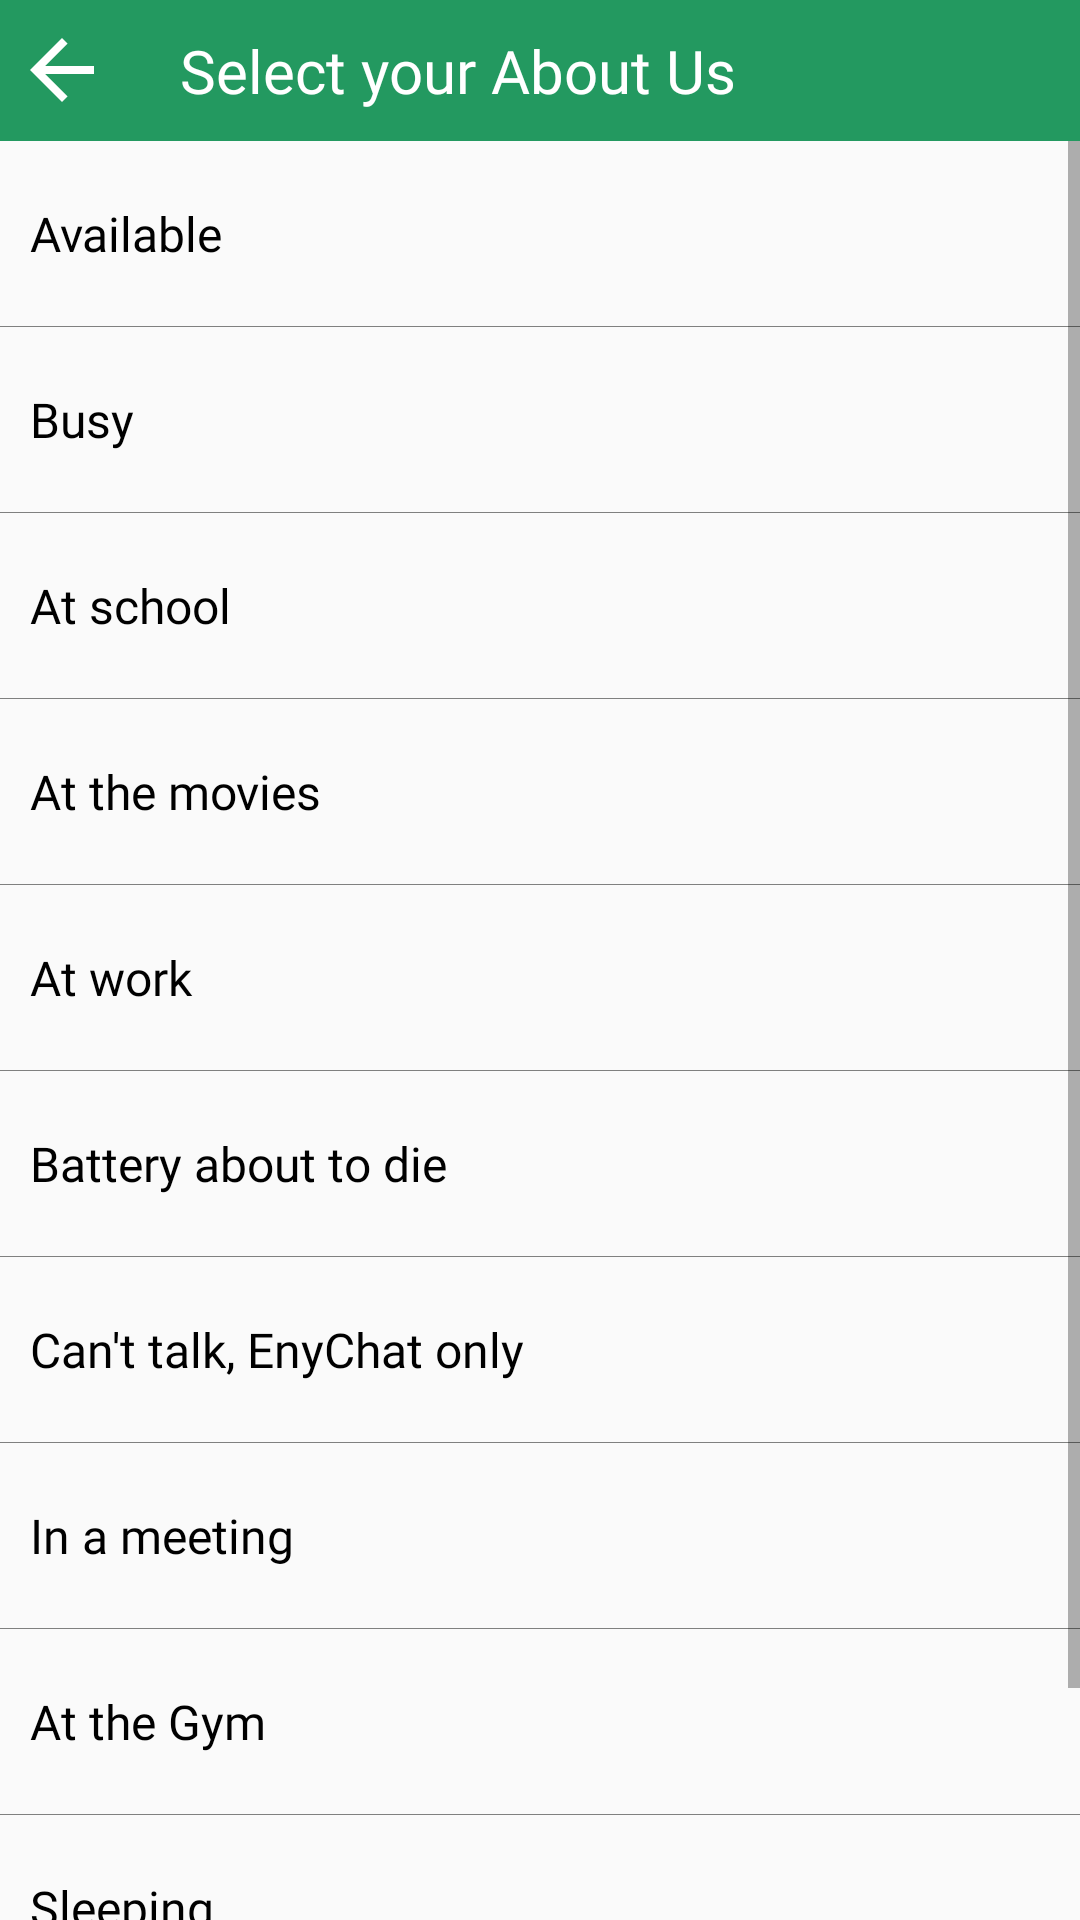

Icon click points for this 1080 × 1920 phone screenshot, format point (x, y):
back arrow: point (62, 70)
